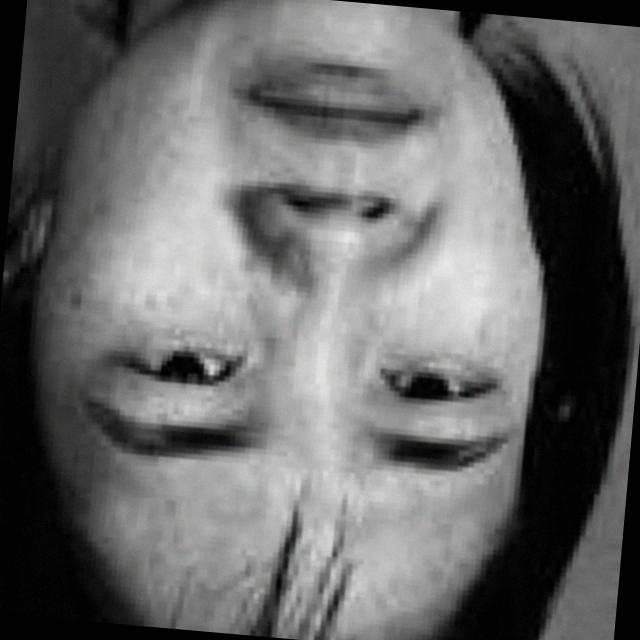disgust: (66, 0, 586, 603)
